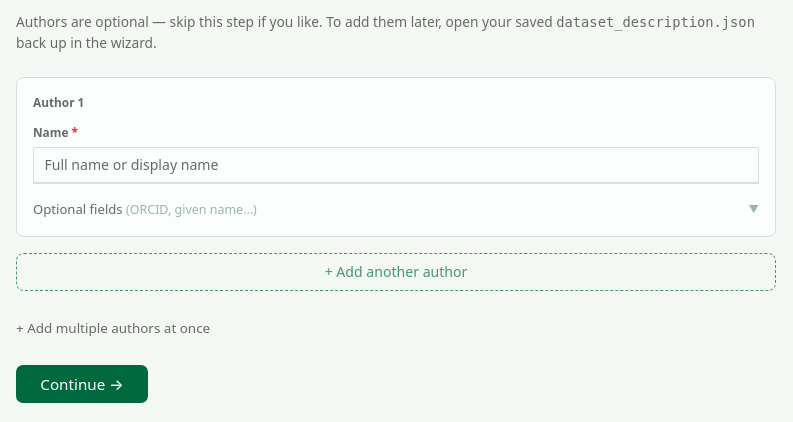
Test: Authors › remove author › Remove button appears on a committed card
In the field labelled "Name *": (396, 165) [33, 147, 759, 184], type "Jane Smith"
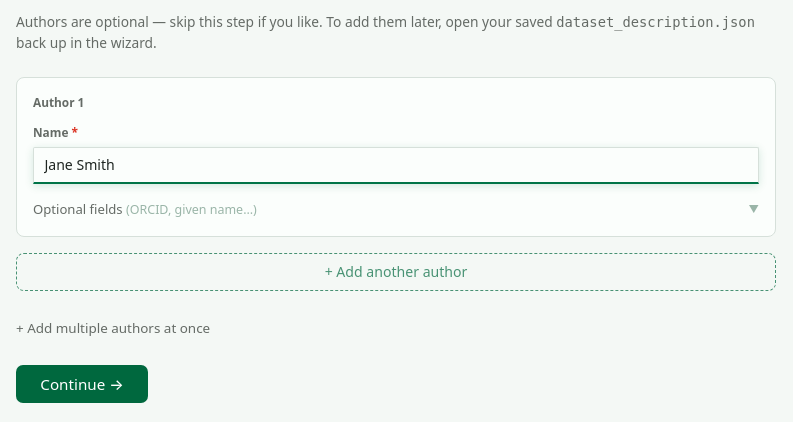
Press Tab
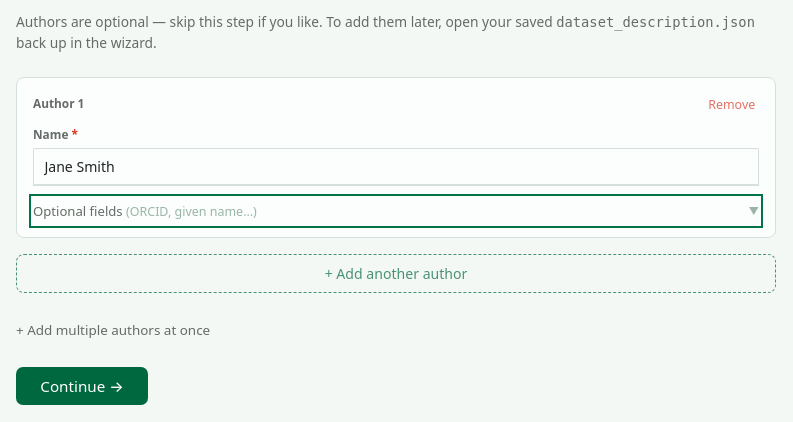
Expected: the button "Remove" is shown, [704, 94, 759, 114]
